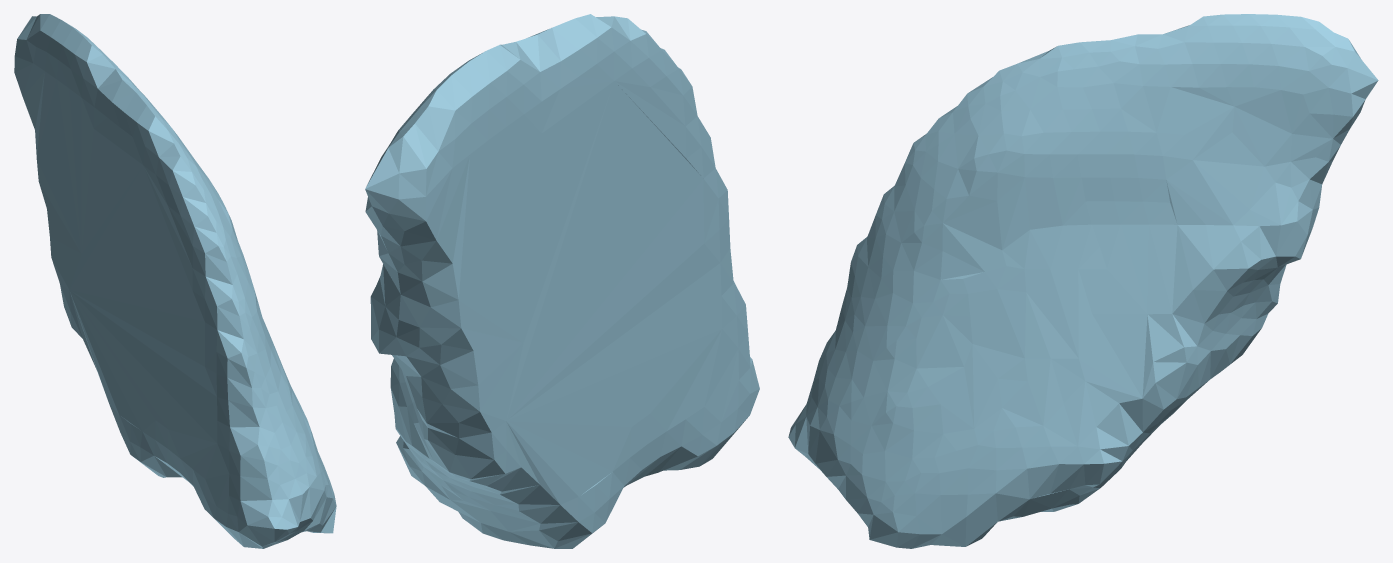
Rendered from Model_247_RH__Medial_septal_nucleus_(MS).obj.
The picture shows the model from 3 angles, left to right: view 1: azimuth 30°, elevation 25°; view 2: azimuth 150°, elevation 25°; view 3: azimuth 270°, elevation 25°; orthographic projection. The views are drawn at different scales.
Size of the model in its own units: 0.6161 by 1.86 by 2.08.
